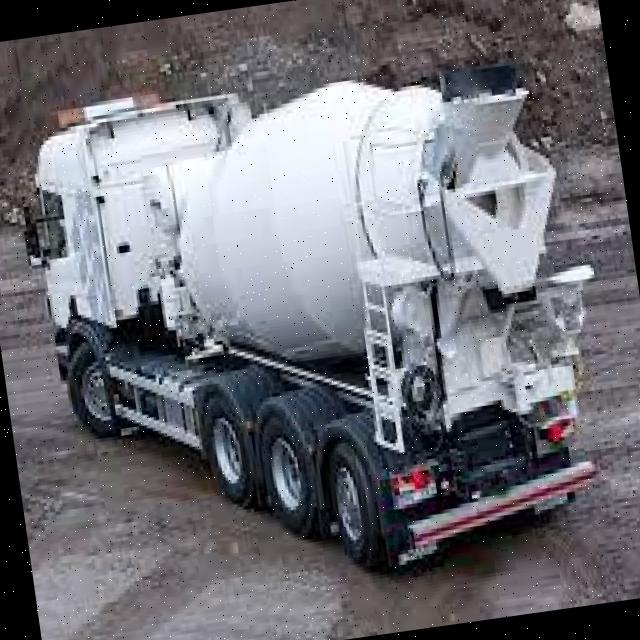Mixer Truck: (4, 27, 637, 623)
